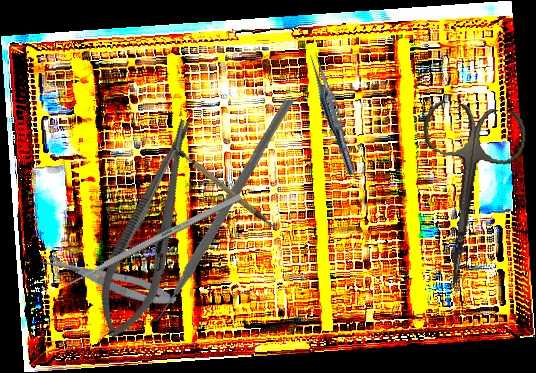Chopper: (131, 100, 298, 322)
Iris Scissors: (399, 98, 531, 297)
Micro Scissor: (40, 245, 179, 314)
Needle Holder: (84, 111, 216, 347)
Pusher: (55, 192, 243, 294)
Scalpel Handle: (176, 138, 278, 245)
Tissue Forceps: (303, 49, 362, 178)
